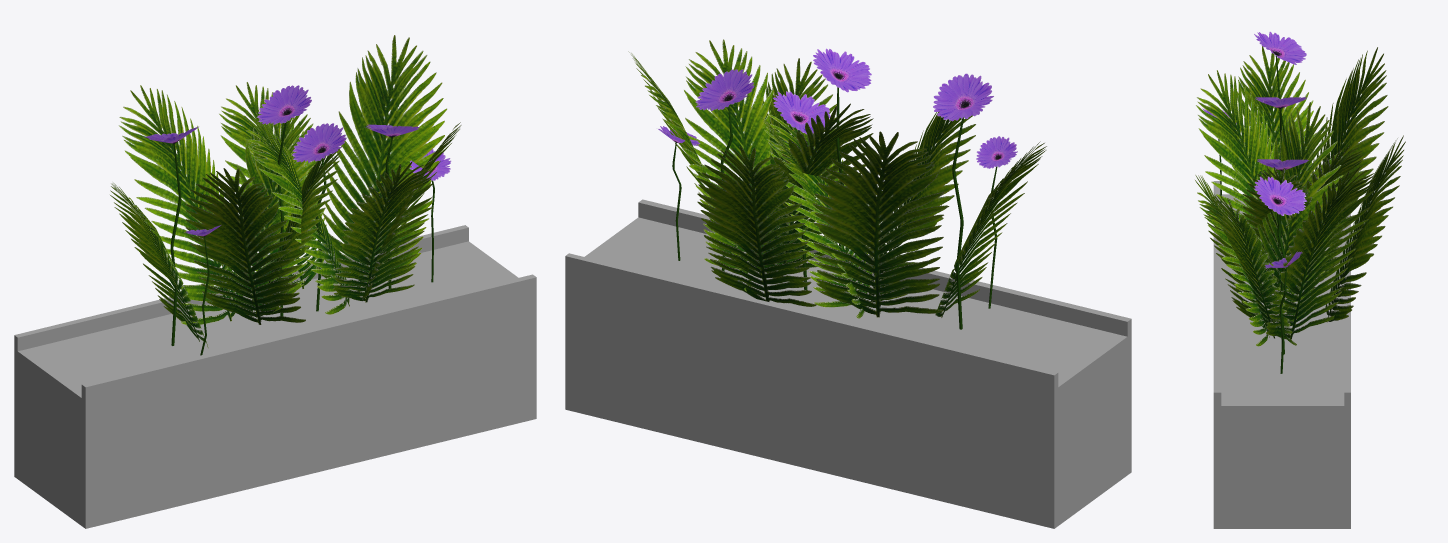
Rendered from Planter.fbx.
3 views of the same model, side by side, from view 1: azimuth 30°, elevation 25°; view 2: azimuth 150°, elevation 25°; view 3: azimuth 270°, elevation 25° (orthographic). The views are drawn at different scales.
Parts seen in each view (by area): view 1: Base, Planters, Flowers; view 2: Base, Planters, Flowers; view 3: Planters, Base, Flowers.
Part boxes in pixels (x1,y1,x2,y2): Base: (14, 225, 536, 528); Planters: (110, 35, 461, 348); Flowers: (144, 85, 451, 355); Base: (565, 199, 1131, 528); Planters: (628, 39, 1046, 318); Flowers: (658, 48, 1017, 329); Planters: (1195, 46, 1405, 346); Base: (1213, 181, 1350, 528); Flowers: (1202, 31, 1308, 373).
Size of the model in its own units: 202 by 152 by 109.
Materials: 4 (2 with a texture image).
